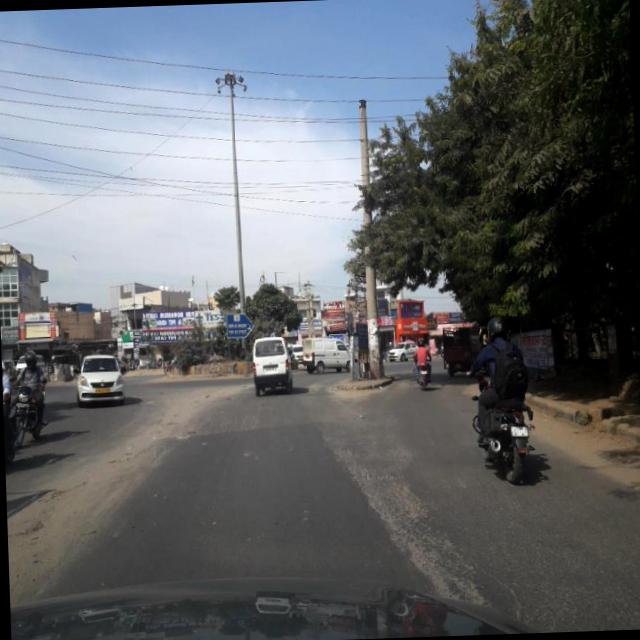crack: (332, 418, 483, 604)
